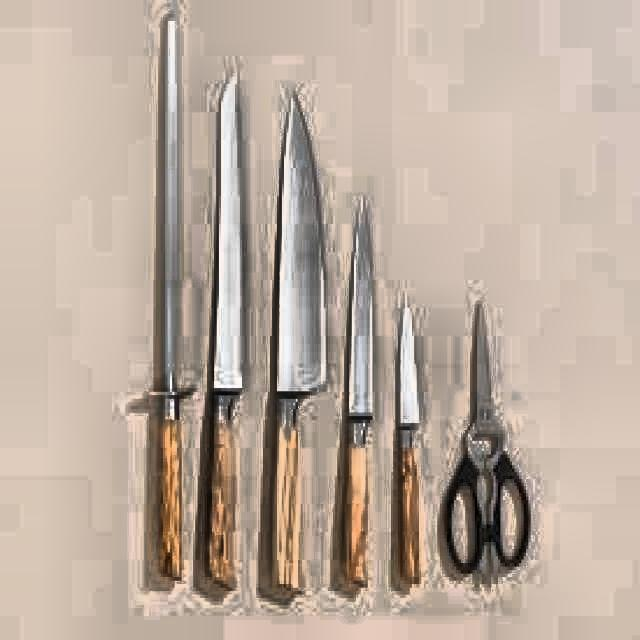knife: (266, 85, 327, 606), (206, 79, 250, 593), (340, 198, 384, 586), (396, 306, 430, 600)
